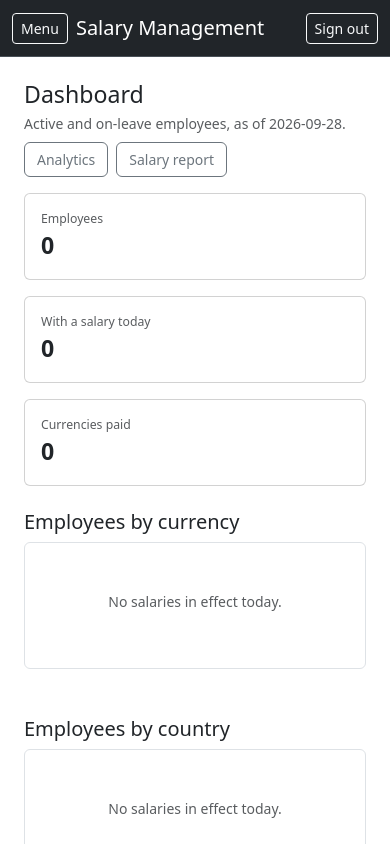
Test: MainLayout › opens and closes the sidebar with the small-screen menu button
The image size is (390, 844).
Expected: the heading "Dashboard" is shown, [24,78,144,110]
Click the button "Menu": coordinates (40, 28) [12,12,68,44]
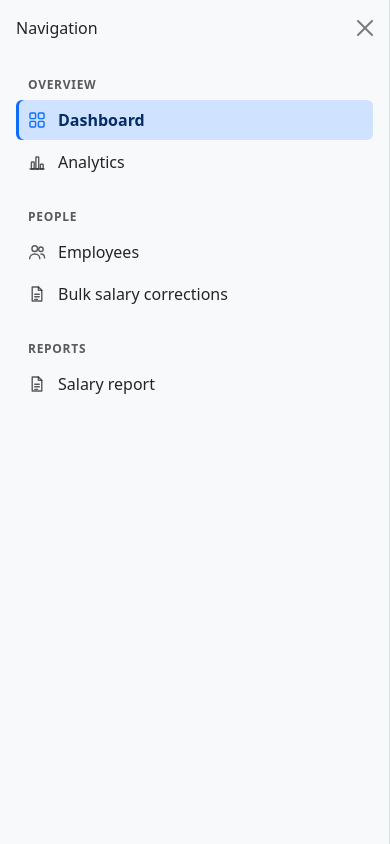
Now the button "Menu" is expanded, box [12,12,68,44]
Click the button named "Close navigation": coordinates (365, 28) [349,12,381,44]
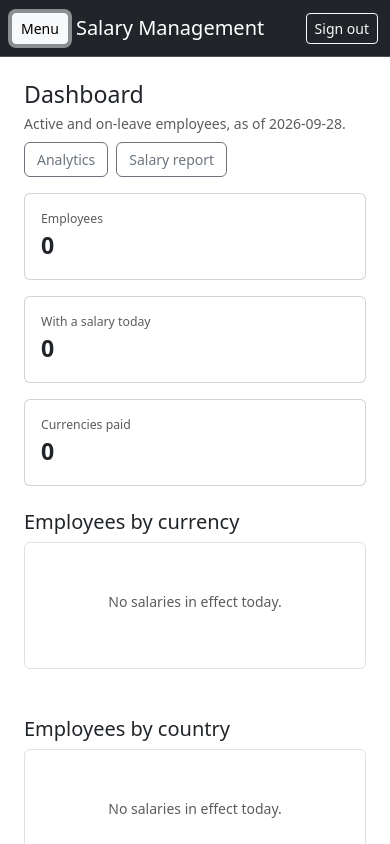
Now the button "Menu" is collapsed, box [12,12,68,44]
